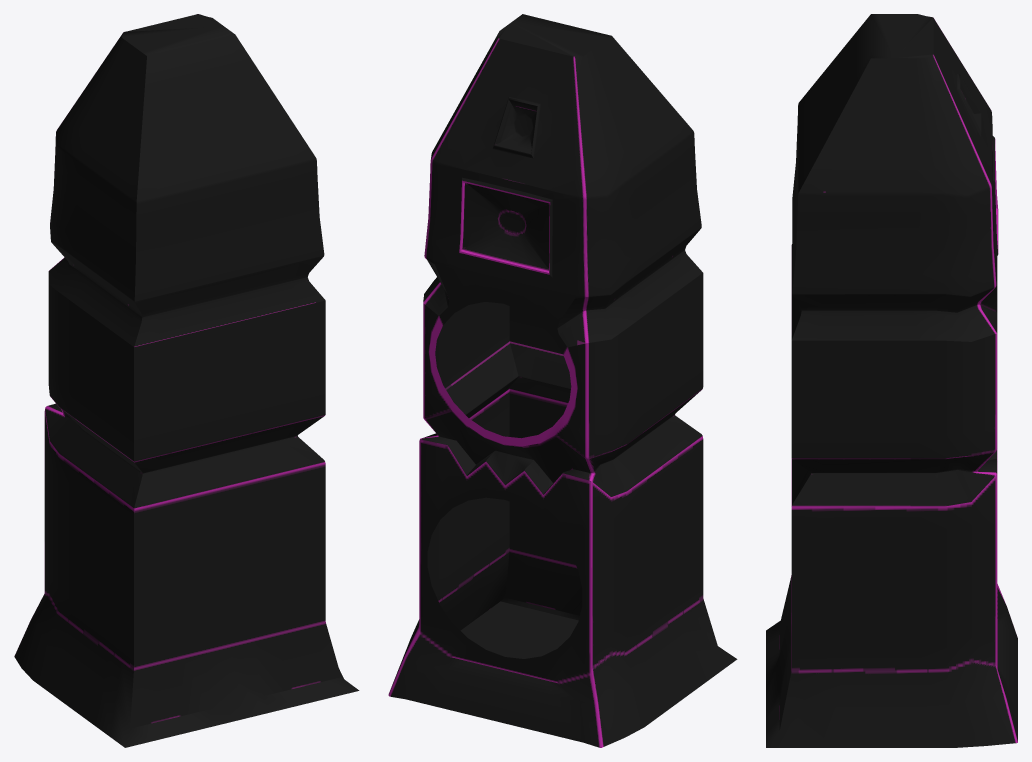
Rendered from RightSpeaker.001.fbx.
The picture shows the model from 3 angles, left to right: view 1: azimuth 30°, elevation 25°; view 2: azimuth 150°, elevation 25°; view 3: azimuth 270°, elevation 25°; orthographic projection. The views are drawn at different scales.
Parts seen in each view (by area): view 1: RightSpeaker.001_Baked; view 2: RightSpeaker.001_Baked; view 3: RightSpeaker.001_Baked.
Part boxes in pixels (left/top/right/bottom): RightSpeaker.001_Baked: left=14, top=14, right=359, bottom=747; RightSpeaker.001_Baked: left=388, top=14, right=737, bottom=747; RightSpeaker.001_Baked: left=766, top=14, right=1017, bottom=747.
Size of the model in its own units: 849 by 2205 by 770.
1 material, 1 textured.
